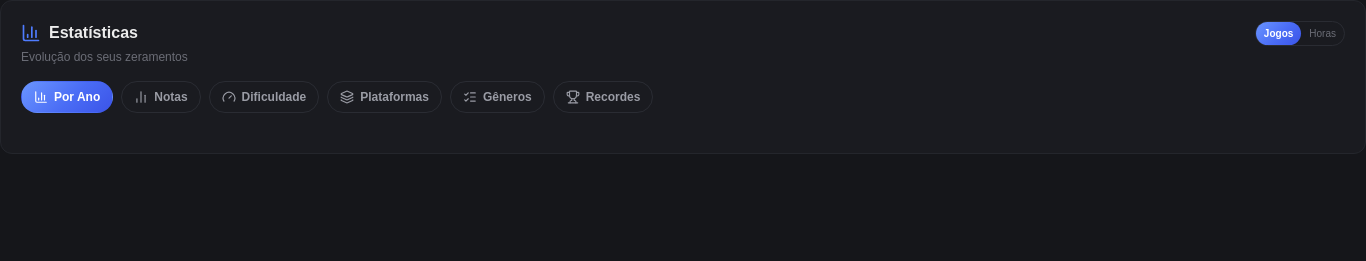
it: EstatisticasAbas › mantém outras abas disponíveis quando uma delas falha
Click the tab "Notas": point(161, 97) [121, 81, 200, 113]
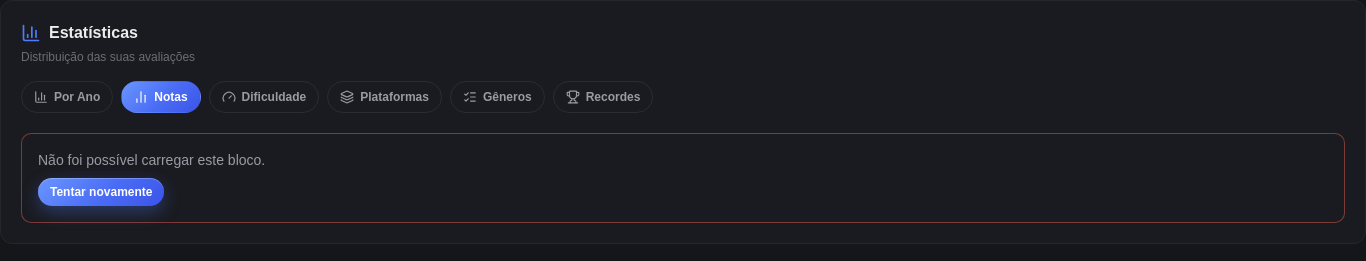
expect the message "Não foi possível carregar este bloco. Tentar novamente" is shown: met, box [21, 133, 1345, 223]
Click the tab "Plataformas": point(385, 97) [327, 81, 442, 113]
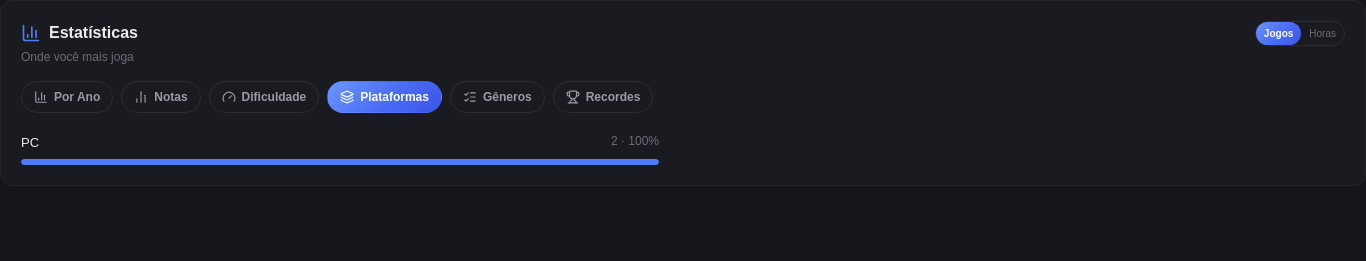
expect the text "PC" is shown: met, box [21, 133, 39, 152]
